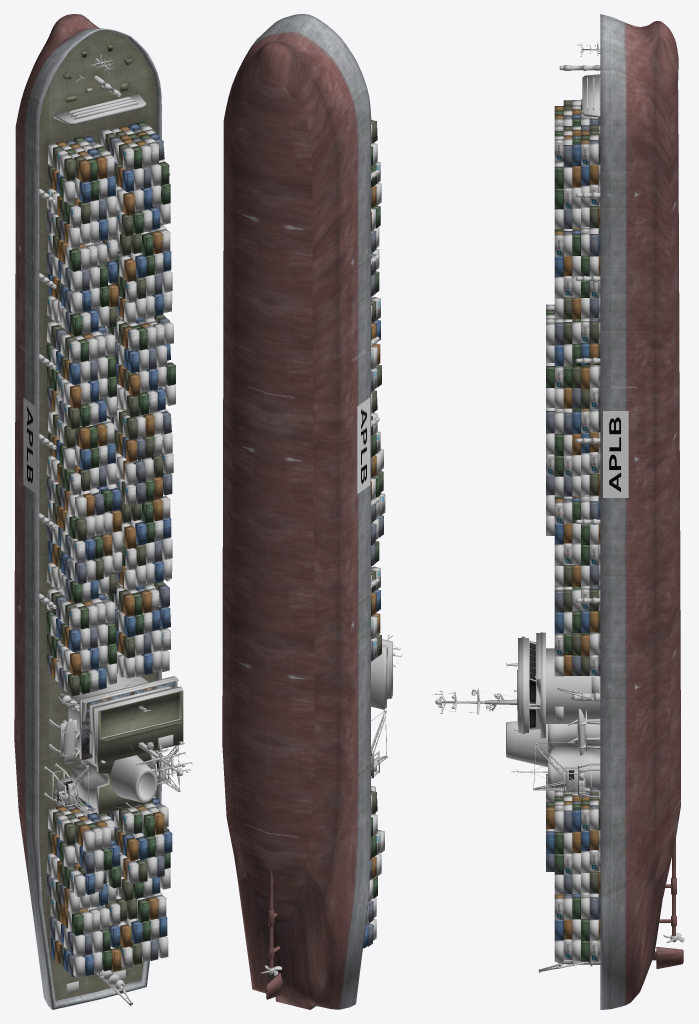
The model's file is Container_Large_v09.fbx.
The picture shows the model from 3 angles, left to right: view 1: azimuth 30°, elevation 25°; view 2: azimuth 150°, elevation 25°; view 3: azimuth 270°, elevation 25°; orthographic projection.
Visible parts, largest first — view 1: Hull_01, SS_Upper, SS_Upper_Rear, Stack1, Name_01, PortCrane_01, Life_Boats_11_03, Posts_01, Wall_01, Deack_Detail1, PortCrane_01_ncl1_1, o251; view 2: Hull_01, SS_Upper, Name_01, PortCrane_01, Prop_01; view 3: Hull_01, SS_Upper, SS_Upper_Rear, Name_01, Stack1, PortCrane_01_ncl1_1, Posts_01, Wall_01, Life_Boats_11_03.
Boxes of the visible parts, x1,y1,x2,y2 form: Hull_01: (14,14,161,1009); SS_Upper: (68,673,184,764); SS_Upper_Rear: (71,735,152,814); Stack1: (110,755,157,802); Name_01: (23,398,35,493); PortCrane_01: (44,752,89,814); Life_Boats_11_03: (48,718,79,764); Posts_01: (39,173,170,609); Wall_01: (53,94,146,124); Deack_Detail1: (63,44,132,992); PortCrane_01_ncl1_1: (147,744,180,792); o251: (135,742,192,784); Hull_01: (222,14,370,1009); SS_Upper: (371,639,392,709); Name_01: (357,397,370,493); PortCrane_01: (371,710,387,778); Prop_01: (260,869,281,975); Hull_01: (600,14,680,1009); SS_Upper: (514,632,600,738); SS_Upper_Rear: (548,724,600,790); Name_01: (603,411,628,497); Stack1: (506,721,547,767); PortCrane_01_ncl1_1: (533,742,600,798); Posts_01: (575,192,600,603); Wall_01: (582,74,600,117); Life_Boats_11_03: (568,708,600,755).
Bounding box in the file's own units: 4284 × 31831 × 7499.
